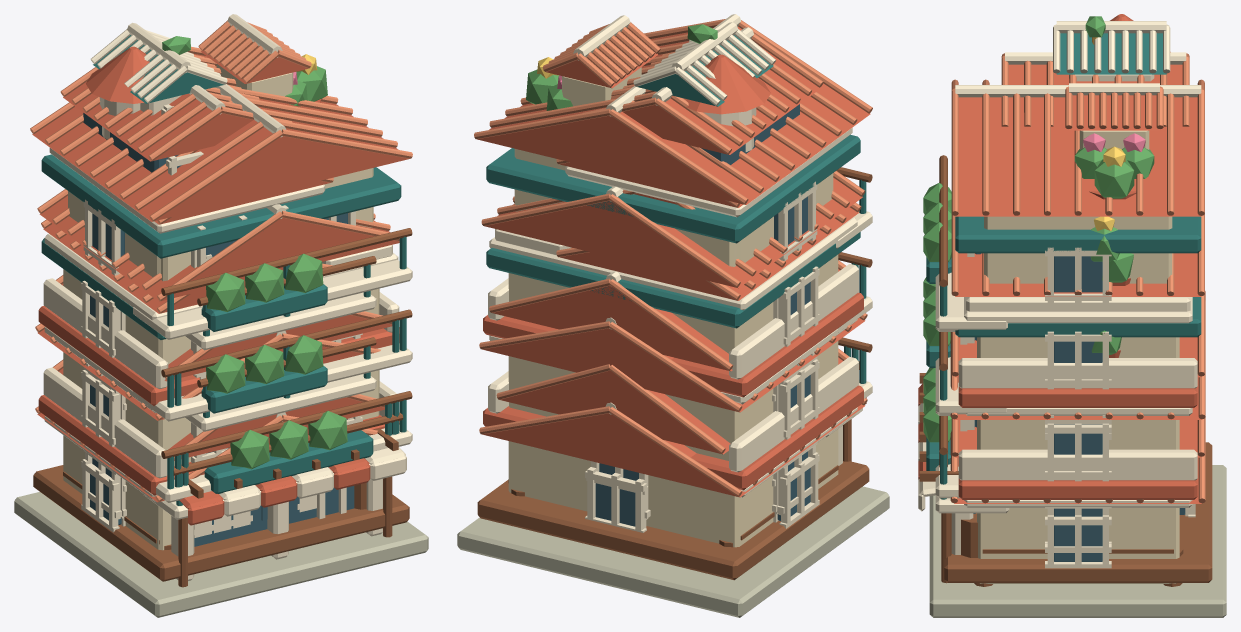
File: residences.glb
The picture shows the model from 3 angles, left to right: view 1: azimuth 30°, elevation 25°; view 2: azimuth 150°, elevation 25°; view 3: azimuth 270°, elevation 25°; orthographic projection. The views are drawn at different scales.
Visible parts, largest first — view 1: res_harbor_4_mesh, res_garden_4_mesh, res_harbor_1_mesh, res_market_1_mesh, res_harbor_3_mesh, res_market_4_mesh, res_market_2_mesh, res_garden_3_mesh, res_garden_2_mesh, res_harbor_2_mesh, res_garden_1_mesh, res_market_3_mesh; view 2: res_harbor_4_mesh, res_harbor_1_mesh, res_market_1_mesh, res_garden_4_mesh, res_market_2_mesh, res_market_4_mesh, res_harbor_3_mesh, res_garden_1_mesh, res_garden_2_mesh, res_harbor_2_mesh, res_garden_3_mesh, res_market_3_mesh; view 3: res_harbor_4_mesh, res_market_1_mesh, res_harbor_1_mesh, res_market_2_mesh, res_garden_4_mesh, res_market_4_mesh, res_harbor_3_mesh, res_garden_3_mesh, res_garden_2_mesh, res_garden_1_mesh, res_harbor_2_mesh.
Boxes of the visible parts, box(x1,y1,x2,y2) form: res_harbor_4_mesh: box(30, 14, 412, 544); res_garden_4_mesh: box(41, 36, 401, 350); res_harbor_1_mesh: box(14, 359, 428, 617); res_market_1_mesh: box(38, 367, 406, 580); res_harbor_3_mesh: box(37, 189, 402, 536); res_market_4_mesh: box(44, 46, 398, 377); res_market_2_mesh: box(38, 278, 399, 465); res_garden_3_mesh: box(41, 238, 376, 431); res_garden_2_mesh: box(35, 323, 403, 519); res_harbor_2_mesh: box(56, 275, 397, 535); res_garden_1_mesh: box(35, 406, 398, 587); res_market_3_mesh: box(41, 219, 332, 379); res_harbor_4_mesh: box(474, 14, 872, 540); res_harbor_1_mesh: box(457, 348, 889, 617); res_market_1_mesh: box(483, 356, 866, 547); res_garden_4_mesh: box(486, 24, 860, 243); res_market_2_mesh: box(483, 264, 863, 460); res_market_4_mesh: box(489, 54, 857, 351); res_harbor_3_mesh: box(481, 171, 865, 514); res_garden_1_mesh: box(479, 398, 867, 529); res_garden_2_mesh: box(479, 313, 867, 437); res_harbor_2_mesh: box(489, 260, 854, 371); res_garden_3_mesh: box(486, 189, 860, 328); res_market_3_mesh: box(556, 203, 861, 353); res_harbor_4_mesh: box(935, 21, 1204, 553); res_market_1_mesh: box(918, 383, 1197, 583); res_harbor_1_mesh: box(929, 418, 1226, 617); res_market_2_mesh: box(958, 358, 1197, 481); res_garden_4_mesh: box(923, 16, 1201, 331); res_market_4_mesh: box(960, 14, 1192, 389); res_harbor_3_mesh: box(935, 214, 1204, 543); res_garden_3_mesh: box(923, 253, 1201, 415); res_garden_2_mesh: box(923, 291, 1205, 513); res_garden_1_mesh: box(919, 373, 1205, 583); res_harbor_2_mesh: box(935, 294, 1204, 480).
Size of the model in its own units: 2.25 by 3.93 by 2.13.
